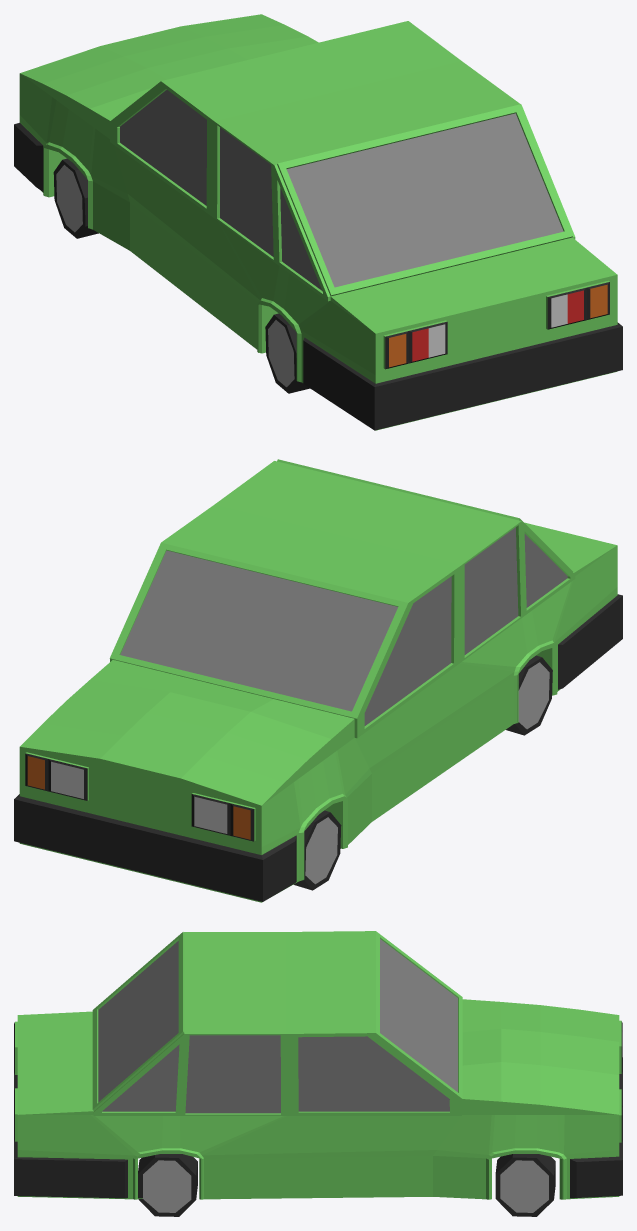
The model's file is Car1GreenColoured.fbx.
3 renders of one model, top to bottom at view 1: azimuth 30°, elevation 25°; view 2: azimuth 150°, elevation 25°; view 3: azimuth 270°, elevation 25°, orthographic. The views are drawn at different scales.
Visible parts, largest first — view 1: Cube; view 2: Cube, Cube.006, Cube.005; view 3: Cube.
Part boxes in pixels (left/top/right/bottom): Cube: left=14, top=14, right=622, bottom=430; Cube: left=14, top=459, right=622, bottom=902; Cube.006: left=191, top=793, right=255, bottom=841; Cube.005: left=25, top=752, right=88, bottom=800; Cube: left=14, top=931, right=622, bottom=1216.
Size of the model in its own units: 250 by 200 by 600.
